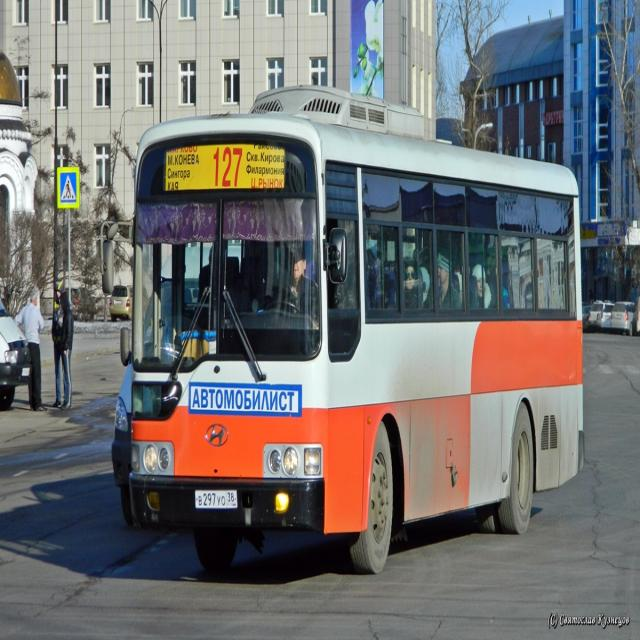number-of-bus: (215, 146, 244, 189)
